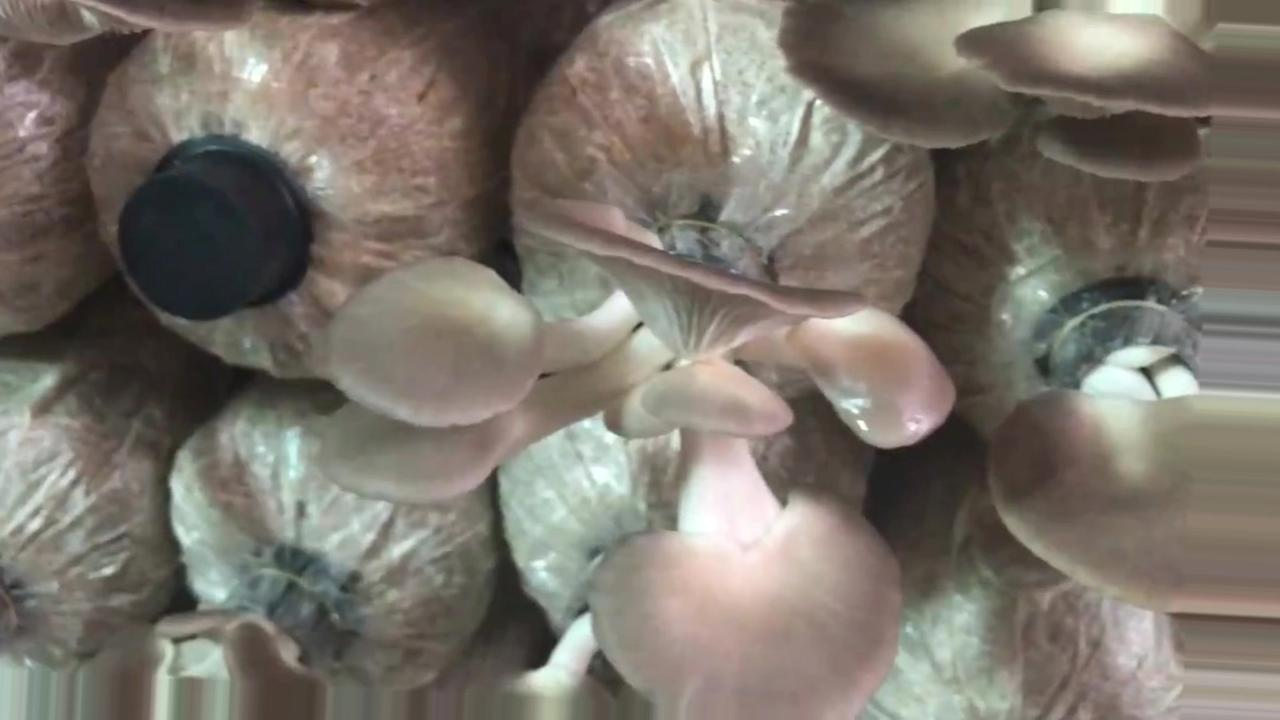nam: (313, 189, 960, 720), (984, 267, 1280, 616), (777, 1, 1280, 187)
